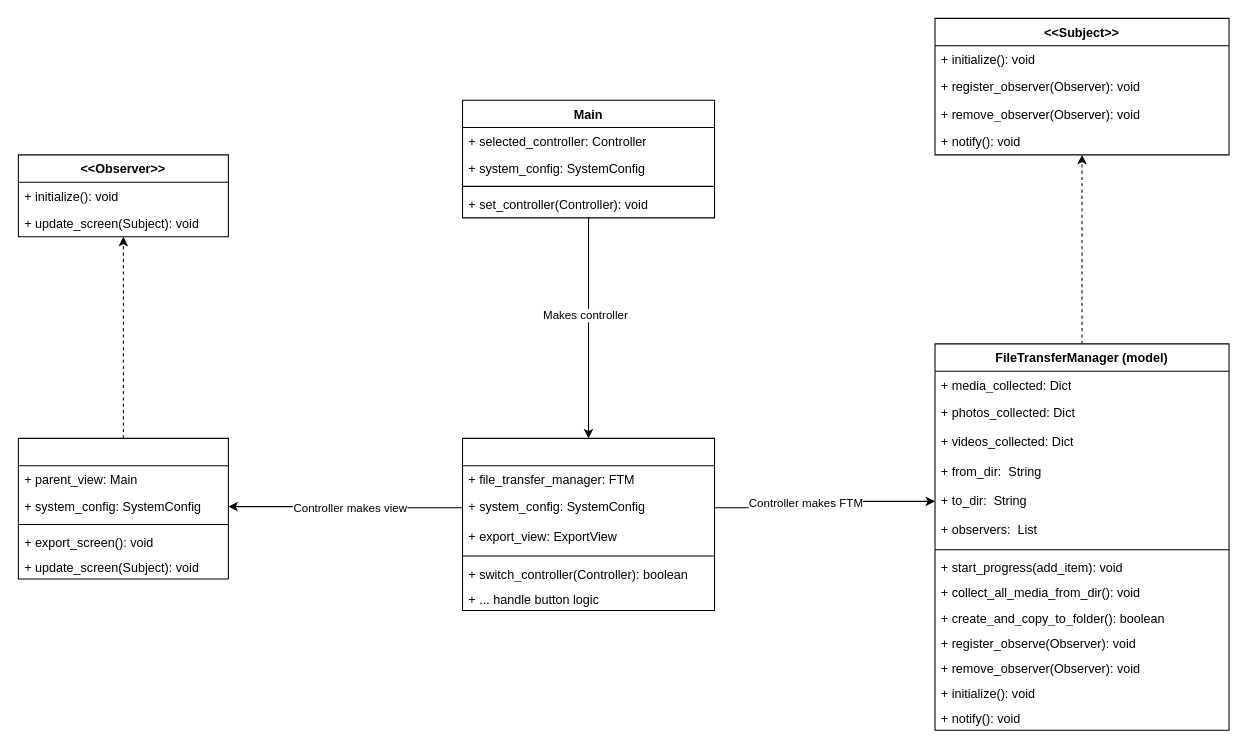
Image size: 1247x752. Some labels were removed from this diagram. Here are the shapes that lost their labels. From the top down, the box of each, then its label:
(17, 437, 228, 579): ExportView (view)
(461, 437, 715, 611): ExportController (controller)
